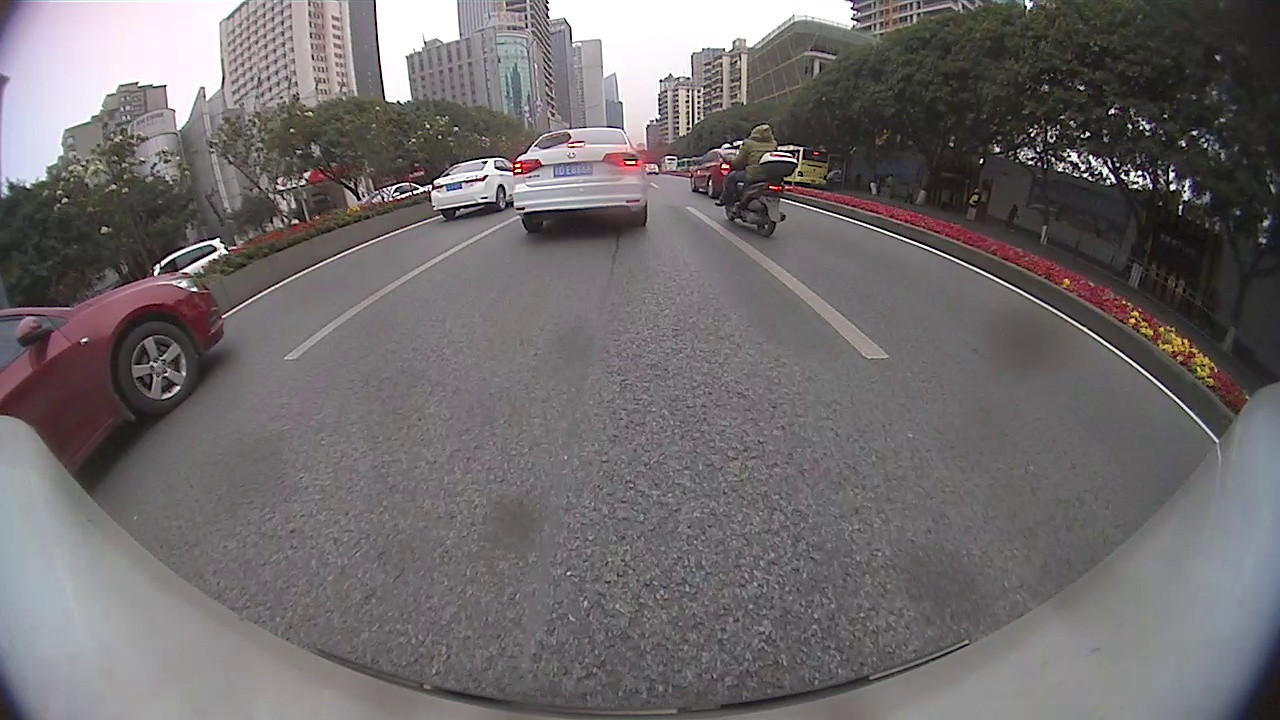bus: (771, 142, 833, 189)
car: (1, 270, 226, 479), (511, 126, 648, 235), (429, 157, 516, 219), (149, 236, 230, 284), (689, 147, 746, 198), (363, 182, 425, 210)
front: (115, 321, 200, 415), (724, 194, 738, 222), (688, 171, 695, 193)
rear: (488, 180, 521, 219), (756, 204, 778, 235), (705, 171, 714, 197)
rider: (718, 123, 797, 239)
